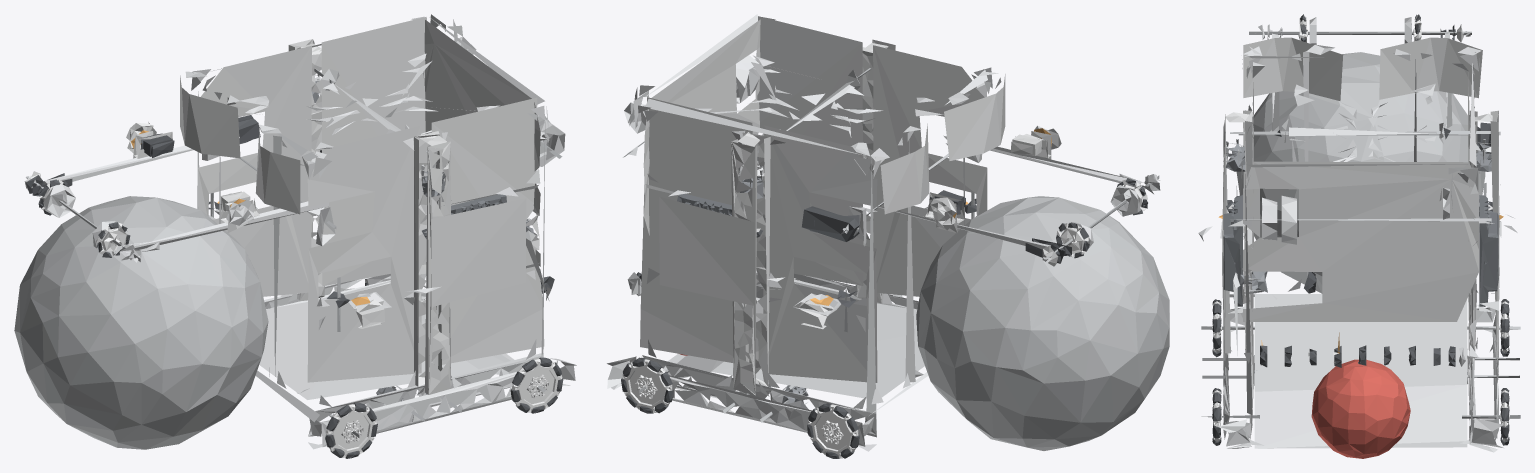
The model's file is fgc-lo.glb.
3 views of the same model, side by side, from view 1: azimuth 30°, elevation 25°; view 2: azimuth 150°, elevation 25°; view 3: azimuth 270°, elevation 25° (orthographic). The views are drawn at different scales.
Parts seen in each view (by area): view 1: frame_panel, barrier_barrier, frame_alu, arms_alu, wheel0_white, wheel2_white, arms_black, arms_panel, frame_steel, wheel2_black, wheel0_black, frame_black (+2 smaller); view 2: frame_panel, barrier_barrier, frame_alu, arms_alu, arms_panel, frame_black, wheel3_white, wheel1_white, arms_black, wheel1_black, wheel3_black, frame_steel (+2 smaller); view 3: frame_panel, frame_alu, barrier_barrier, ball_ballRed, frame_steel, hubL_hubcase, hubR_hubcase, intake_black, frame_aluDark, arms_alu, arms_steel, frame_black (+4 smaller).
Boxes of the visible parts, x1=… form: frame_panel: x1=180, y1=17, x2=544, y2=394; barrier_barrier: x1=14, y1=196, x2=268, y2=449; frame_alu: x1=185, y1=14, x2=576, y2=449; arms_alu: x1=27, y1=137, x2=328, y2=262; wheel0_white: x1=512, y1=359, x2=562, y2=412; wheel2_white: x1=326, y1=404, x2=376, y2=457; arms_black: x1=25, y1=133, x2=174, y2=257; arms_panel: x1=24, y1=122, x2=259, y2=233; frame_steel: x1=210, y1=68, x2=562, y2=437; wheel2_black: x1=325, y1=403, x2=377, y2=458; wheel0_black: x1=510, y1=357, x2=563, y2=413; frame_black: x1=208, y1=115, x2=426, y2=307; frame_panel: x1=640, y1=16, x2=1005, y2=395; barrier_barrier: x1=916, y1=196, x2=1169, y2=450; frame_alu: x1=607, y1=14, x2=1001, y2=451; arms_alu: x1=876, y1=125, x2=1160, y2=263; arms_panel: x1=925, y1=131, x2=1058, y2=266; frame_black: x1=756, y1=79, x2=976, y2=307; wheel3_white: x1=808, y1=404, x2=858, y2=458; wheel1_white: x1=622, y1=359, x2=672, y2=413; arms_black: x1=930, y1=178, x2=1147, y2=263; wheel1_black: x1=621, y1=358, x2=673, y2=413; wheel3_black: x1=807, y1=403, x2=859, y2=458; frame_steel: x1=623, y1=58, x2=974, y2=437; frame_panel: x1=1222, y1=37, x2=1500, y2=407; frame_alu: x1=1198, y1=44, x2=1517, y2=452; barrier_barrier: x1=1236, y1=52, x2=1485, y2=293; ball_ballRed: x1=1311, y1=359, x2=1410, y2=458; frame_steel: x1=1201, y1=124, x2=1520, y2=418; hubL_hubcase: x1=1479, y1=195, x2=1498, y2=306; hubR_hubcase: x1=1223, y1=195, x2=1242, y2=306; intake_black: x1=1260, y1=345, x2=1455, y2=367; frame_aluDark: x1=1225, y1=143, x2=1491, y2=381; arms_alu: x1=1255, y1=17, x2=1470, y2=131; arms_steel: x1=1249, y1=31, x2=1471, y2=34; frame_black: x1=1226, y1=122, x2=1492, y2=293.
Size of the model in its own units: 0.8589 by 0.4908 by 0.4909.
